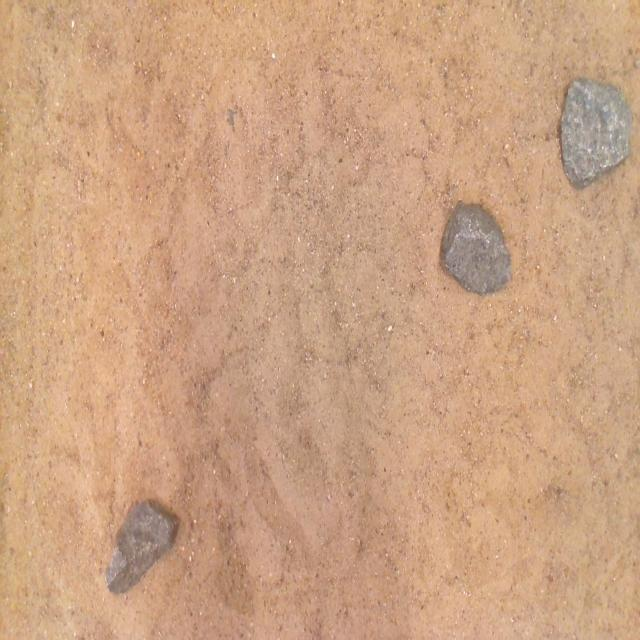rock: (561, 78, 632, 188), (105, 501, 179, 593), (441, 201, 511, 294)
